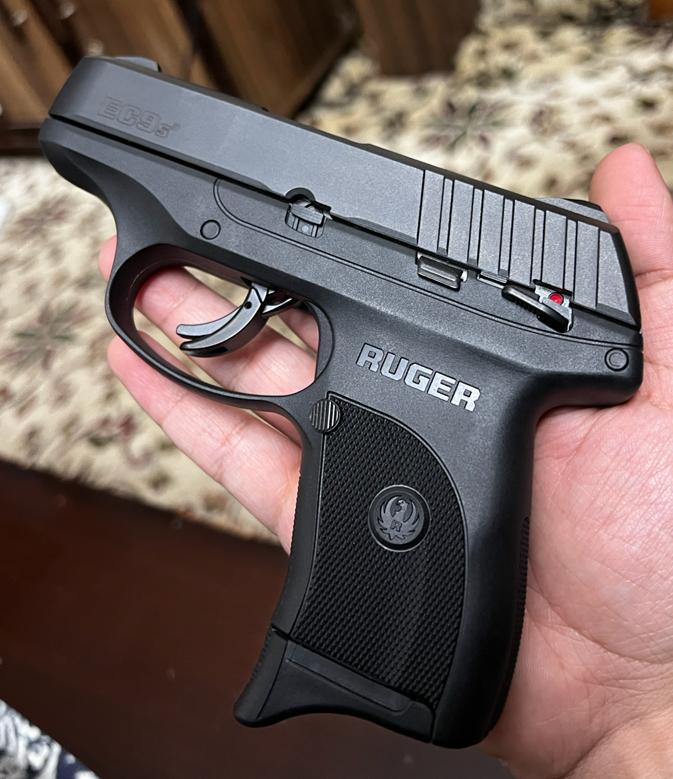weapon: (42, 55, 644, 746)
